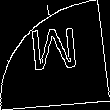M_S: (28, 28, 82, 82)
